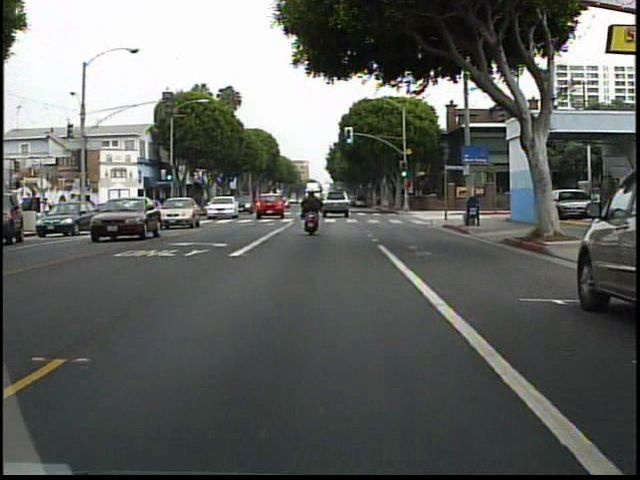person: (298, 184, 327, 241)
